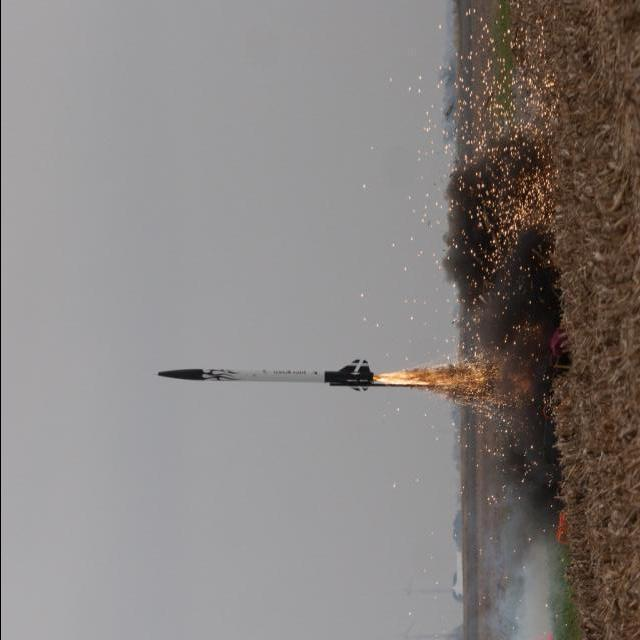missile: (140, 356, 397, 406)
